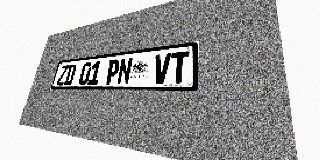0: (78, 62, 92, 85)
1: (87, 61, 102, 85)
D: (64, 64, 77, 85)
N: (116, 57, 133, 84)
P: (105, 59, 120, 84)
T: (169, 51, 189, 83)
V: (152, 53, 171, 84)
Z: (56, 65, 69, 85)
